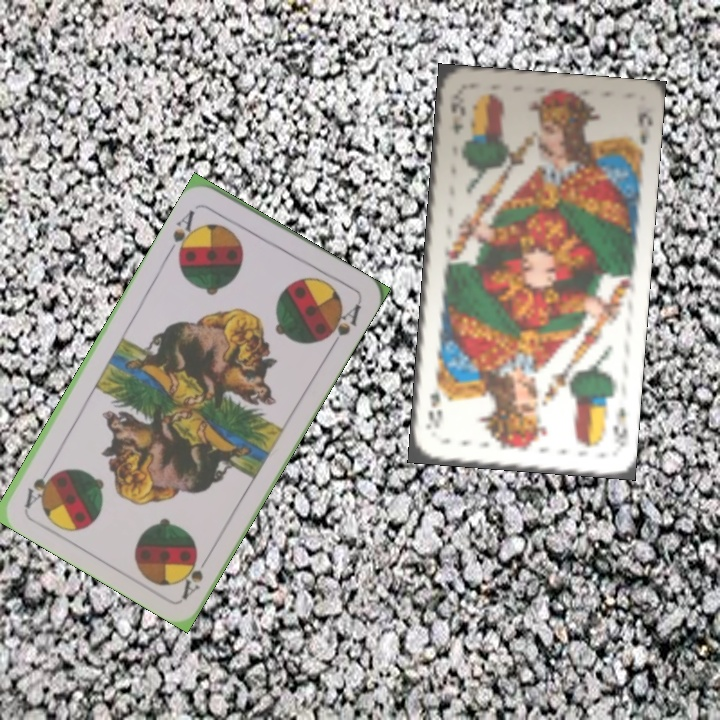EK: (608, 402, 630, 453), (448, 96, 469, 137)
SA: (177, 547, 215, 602), (164, 206, 201, 261)
